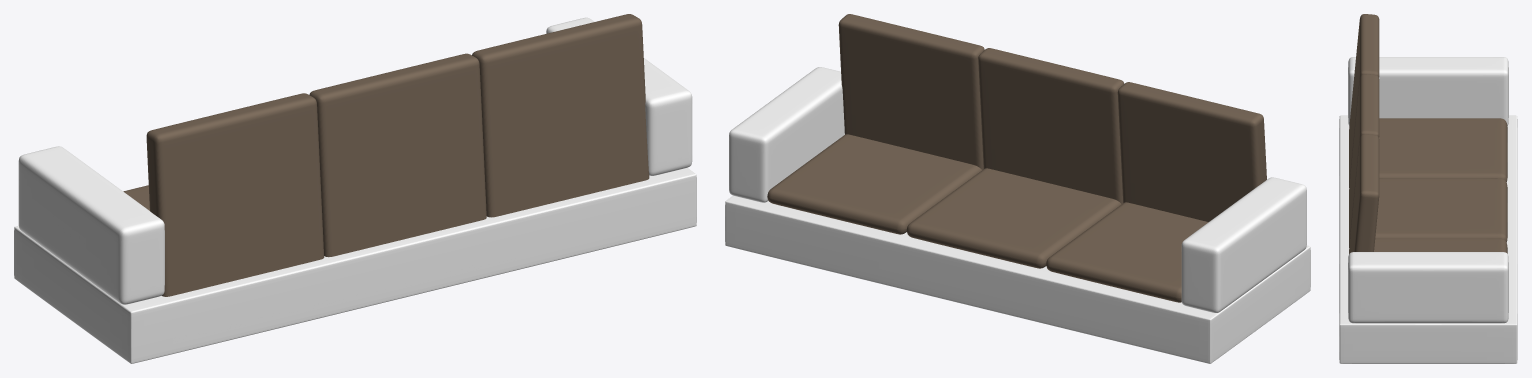
The picture shows the model from 3 angles, left to right: view 1: azimuth 30°, elevation 25°; view 2: azimuth 150°, elevation 25°; view 3: azimuth 270°, elevation 25°; orthographic projection. The views are drawn at different scales.
Visible parts, largest first — view 1: MainCouch_Base, MainCouch_BackCushion_1, MainCouch_BackCushion_2, MainCouch_BackCushion_3, MainCouch_Armrest_Left, MainCouch_Armrest_Right; view 2: MainCouch_Base, MainCouch_BackCushion_2, MainCouch_BackCushion_3, MainCouch_BackCushion_1, MainCouch_SeatCushion_2, MainCouch_SeatCushion_3, MainCouch_Armrest_Left, MainCouch_Armrest_Right, MainCouch_SeatCushion_1; view 3: MainCouch_Armrest_Right, MainCouch_Base, MainCouch_Armrest_Left, MainCouch_SeatCushion_2, MainCouch_SeatCushion_1, MainCouch_BackCushion_3, MainCouch_BackCushion_1, MainCouch_BackCushion_2, MainCouch_SeatCushion_3.
Part boxes in pixels (<box>): MainCouch_Base: <box>14,167,696,363</box>; MainCouch_BackCushion_1: <box>146,93,324,296</box>; MainCouch_BackCushion_2: <box>309,53,486,257</box>; MainCouch_BackCushion_3: <box>472,14,649,217</box>; MainCouch_Armrest_Left: <box>18,146,164,304</box>; MainCouch_Armrest_Right: <box>546,17,692,175</box>; MainCouch_Base: <box>725,195,1310,363</box>; MainCouch_BackCushion_2: <box>978,48,1124,203</box>; MainCouch_BackCushion_3: <box>838,14,984,169</box>; MainCouch_BackCushion_1: <box>1117,82,1266,221</box>; MainCouch_SeatCushion_2: <box>906,168,1121,268</box>; MainCouch_SeatCushion_3: <box>767,134,981,234</box>; MainCouch_Armrest_Left: <box>1181,177,1306,312</box>; MainCouch_Armrest_Right: <box>729,67,844,202</box>; MainCouch_SeatCushion_1: <box>1046,202,1208,302</box>; MainCouch_Armrest_Right: <box>1348,252,1508,323</box>; MainCouch_Base: <box>1339,115,1517,363</box>; MainCouch_Armrest_Left: <box>1348,57,1508,126</box>; MainCouch_SeatCushion_2: <box>1375,178,1507,242</box>; MainCouch_SeatCushion_1: <box>1379,118,1507,181</box>; MainCouch_BackCushion_3: <box>1349,134,1379,253</box>; MainCouch_BackCushion_1: <box>1349,14,1379,187</box>; MainCouch_BackCushion_2: <box>1349,74,1379,247</box>; MainCouch_SeatCushion_3: <box>1374,238,1507,253</box>.
Size of the model in its own units: 5.05 by 1.75 by 1.8.
